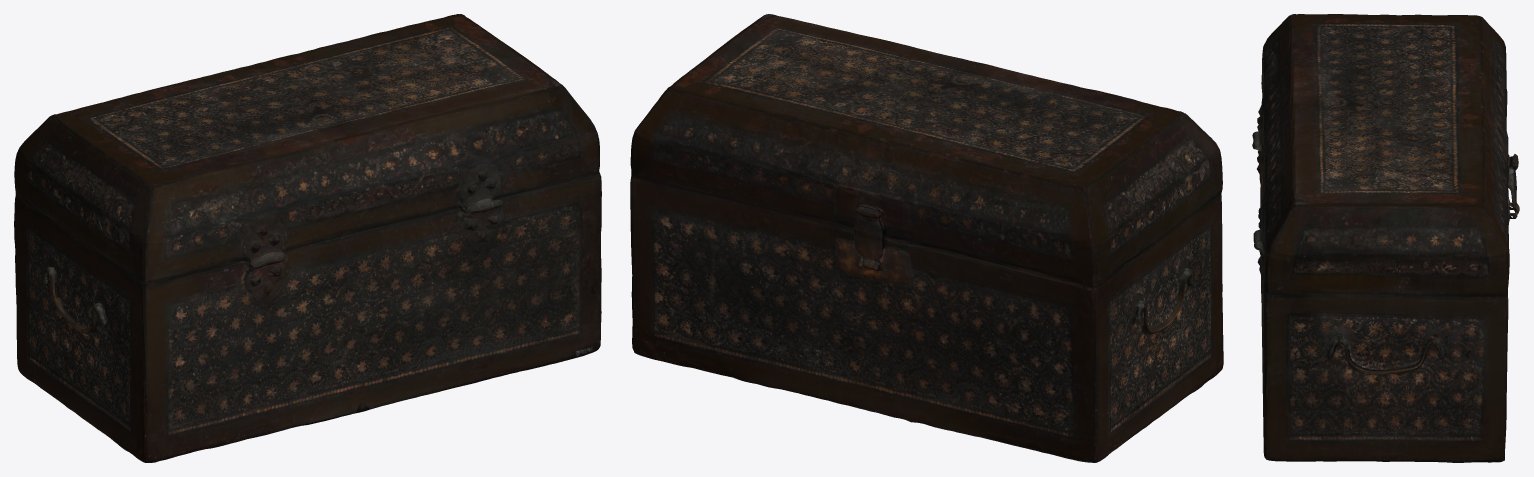
The model's file is lacquer.glb.
3 renders of one model, left to right at view 1: azimuth 30°, elevation 25°; view 2: azimuth 150°, elevation 25°; view 3: azimuth 270°, elevation 25°, orthographic. The views are drawn at different scales.
Visible parts, largest first — view 1: jng009291_000_30000; view 2: jng009291_000_30000; view 3: jng009291_000_30000.
Boxes of the visible parts, bbox=[...] form: jng009291_000_30000: bbox=[14, 14, 601, 462]; jng009291_000_30000: bbox=[630, 14, 1223, 462]; jng009291_000_30000: bbox=[1252, 14, 1519, 462].
Size of the model in its own units: 437 by 233 by 223.
Materials: 1 (1 with a texture image).
